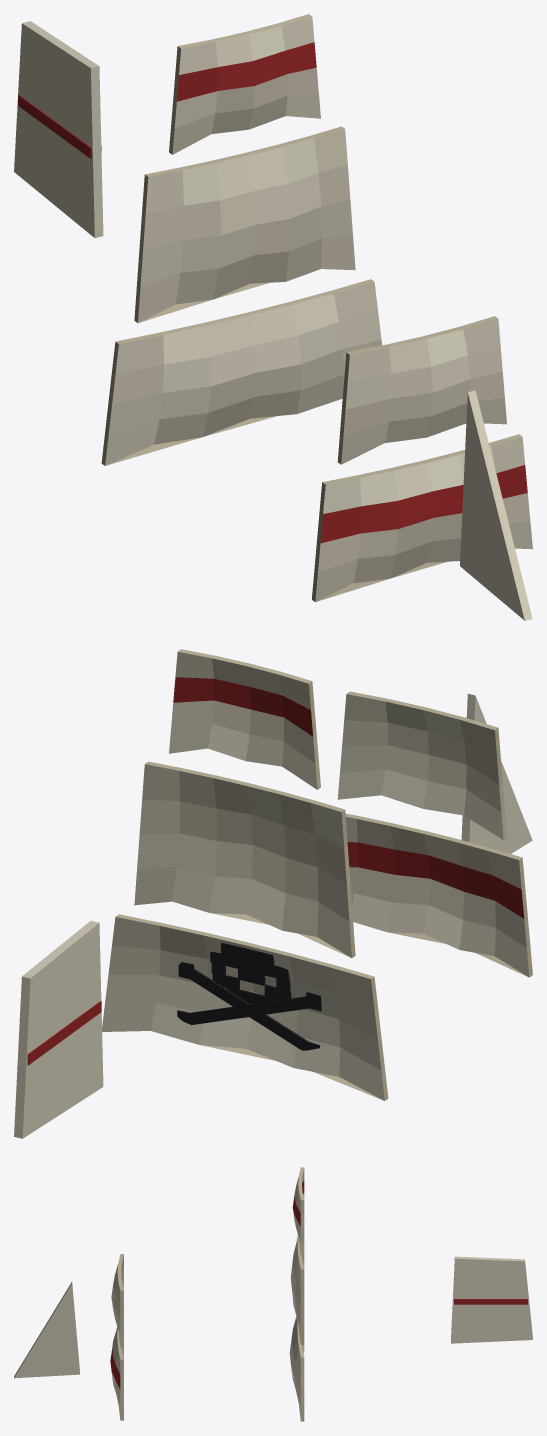
File: Decor_PirateShip_Sails.fbx
3 views of the same model, one above another, from view 1: azimuth 30°, elevation 25°; view 2: azimuth 150°, elevation 25°; view 3: azimuth 270°, elevation 25° (orthographic). The views are drawn at different scales.
Parts seen in each view (by area): view 1: Sails_Body; view 2: Sails_Body; view 3: Sails_Body.
Part boxes in pixels (x1=…): Sails_Body: x1=14, y1=14, x2=532, y2=620; Sails_Body: x1=14, y1=649, x2=532, y2=1138; Sails_Body: x1=14, y1=1167, x2=532, y2=1421.
Size of the model in its own units: 16.5 by 23 by 51.5.
